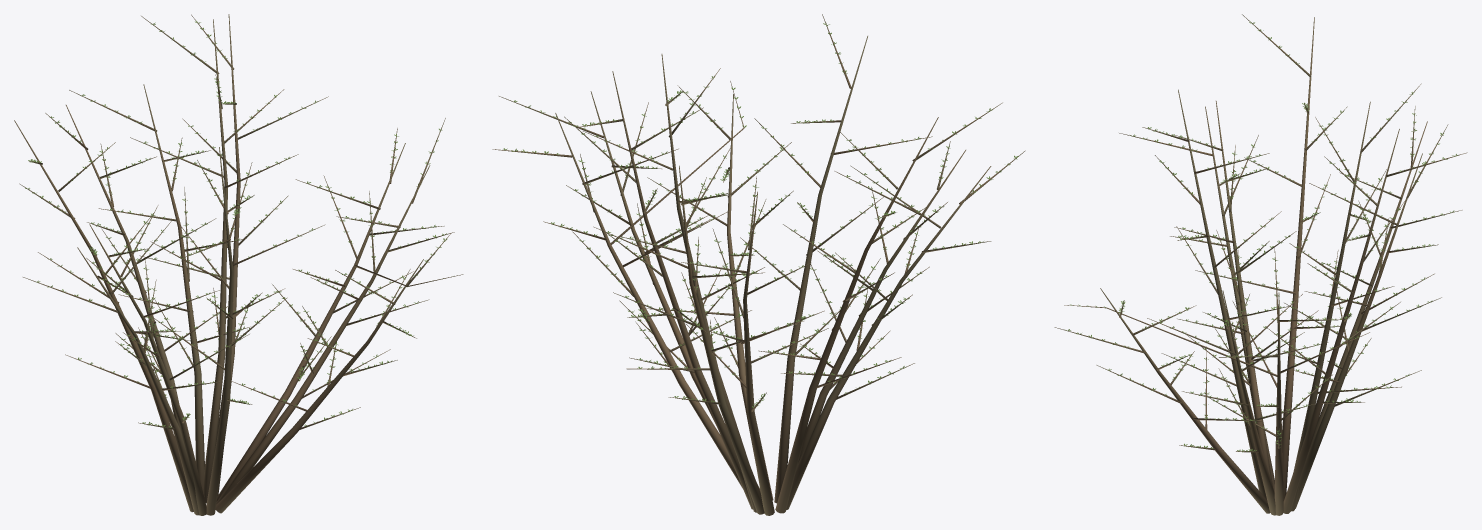
The model's file is creosote_bush_hybrid.glb.
The picture shows the model from 3 angles, left to right: view 1: azimuth 30°, elevation 25°; view 2: azimuth 150°, elevation 25°; view 3: azimuth 270°, elevation 25°; orthographic projection. The views are drawn at different scales.
Visible parts, largest first — view 1: BranchedWoodyStems, BifoliolateLeaves; view 2: BranchedWoodyStems, BifoliolateLeaves; view 3: BranchedWoodyStems, BifoliolateLeaves.
Part boxes in pixels (x1,y1,x2,y2): BranchedWoodyStems: (14,14,463,515); BifoliolateLeaves: (25,20,453,427); BranchedWoodyStems: (492,14,1025,515); BifoliolateLeaves: (503,23,1018,407); BranchedWoodyStems: (1054,14,1467,515); BifoliolateLeaves: (1066,21,1457,452).
Size of the model in its own units: 1.42 by 1.36 by 1.17.
